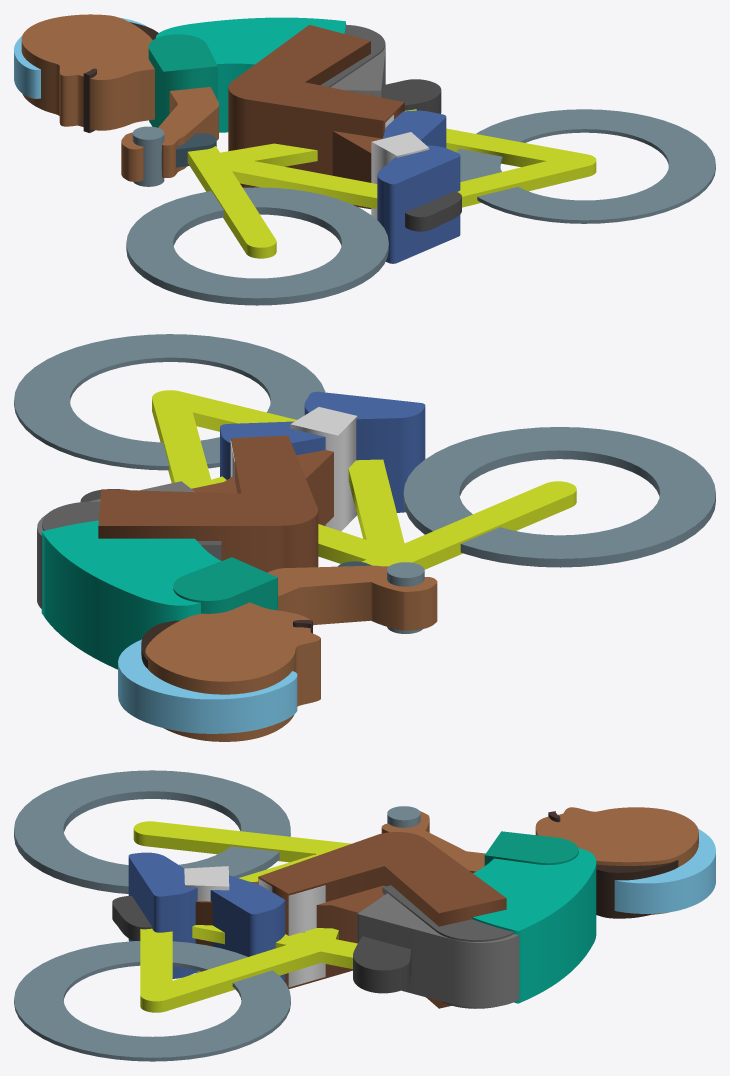
File: emoji_u1f6b4_1f3fe_200d_2642.glb
The picture shows the model from 3 angles, top to bottom: view 1: azimuth 30°, elevation 25°; view 2: azimuth 150°, elevation 25°; view 3: azimuth 270°, elevation 25°; orthographic projection. The views are drawn at different scales.
Visible parts, largest first — view 1: emoji_u1f6b4_1f3fe_200d_2642; view 2: emoji_u1f6b4_1f3fe_200d_2642; view 3: emoji_u1f6b4_1f3fe_200d_2642.
Boxes of the visible parts, left/top/right/bottom form: emoji_u1f6b4_1f3fe_200d_2642: left=14, top=14, right=715, bottom=305; emoji_u1f6b4_1f3fe_200d_2642: left=14, top=334, right=715, bottom=741; emoji_u1f6b4_1f3fe_200d_2642: left=14, top=770, right=715, bottom=1061.
Bounding box in the file's own units: 0.0321 × 0.005 × 0.0334.
